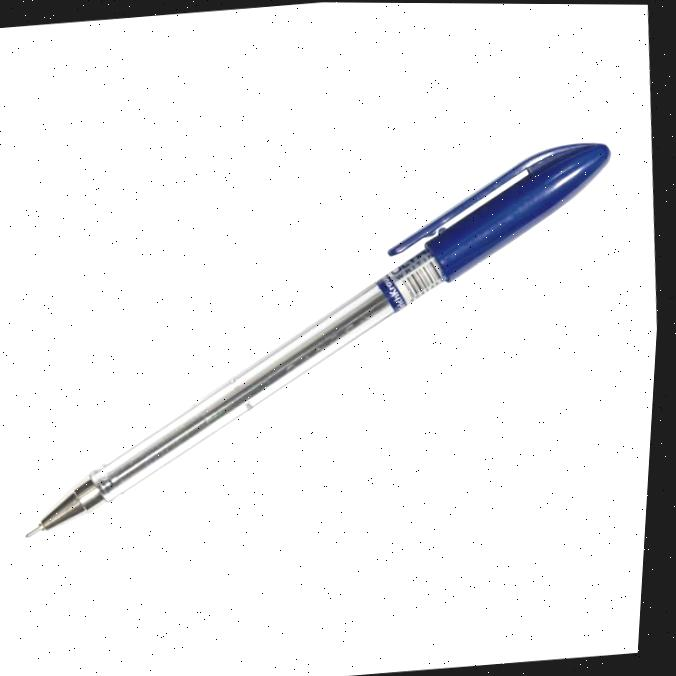pen-pencil: (26, 142, 609, 537)
